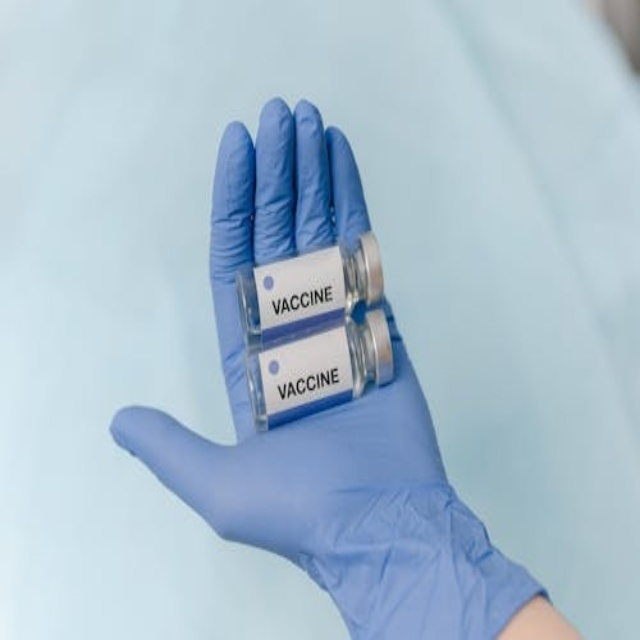Guantes: (111, 97, 593, 640)
